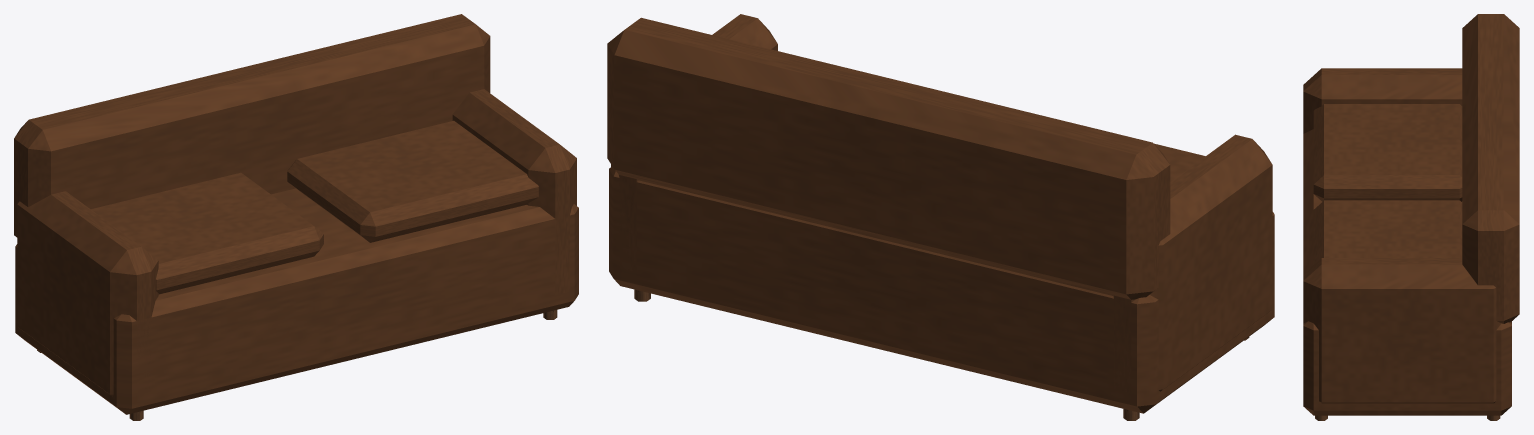
The model's file is OB_Kanapa.fbx.
3 renders of one model, left to right at view 1: azimuth 30°, elevation 25°; view 2: azimuth 150°, elevation 25°; view 3: azimuth 270°, elevation 25°, orthographic. The views are drawn at different scales.
Parts seen in each view (by area): view 1: Kanapa; view 2: Kanapa; view 3: Kanapa.
Part boxes in pixels (x1,y1,x2,y2): Kanapa: (14,14,578,420); Kanapa: (607,14,1274,420); Kanapa: (1303,14,1519,420).
Bounding box in the file's own units: 1.92 × 0.9 × 0.83.
